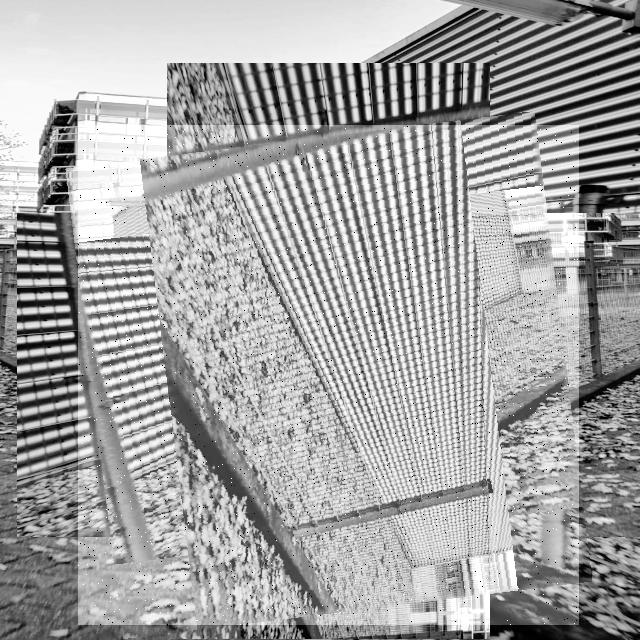fences: (78, 125, 579, 625)
